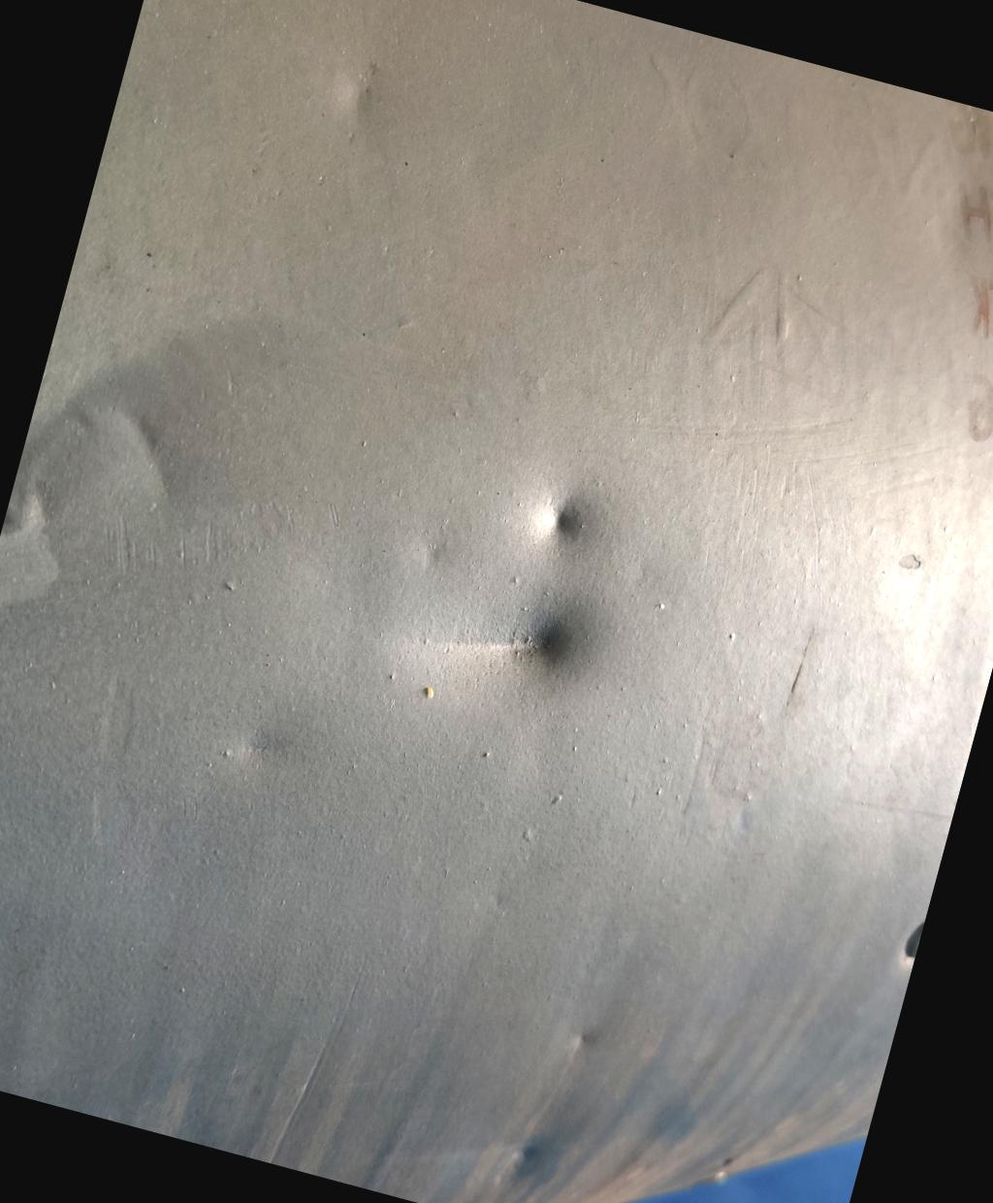dent: (0, 249, 266, 693), (392, 536, 613, 754), (488, 455, 623, 609), (465, 1094, 583, 1203)
